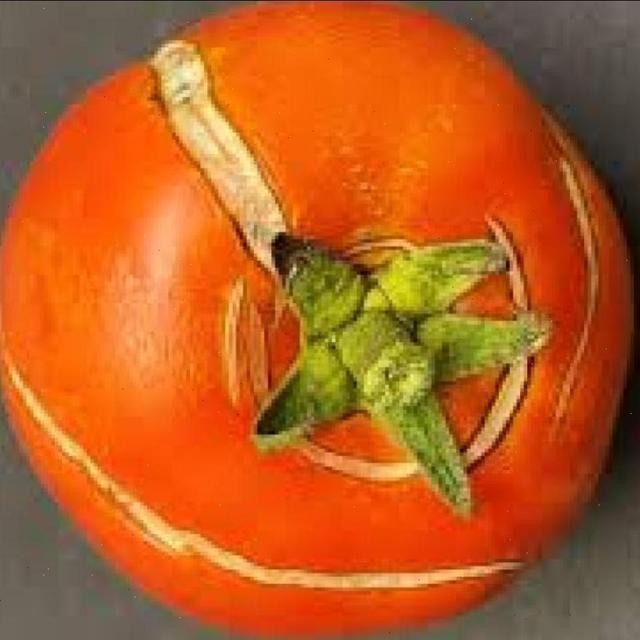Cracking Fruit: (55, 171, 384, 318)
